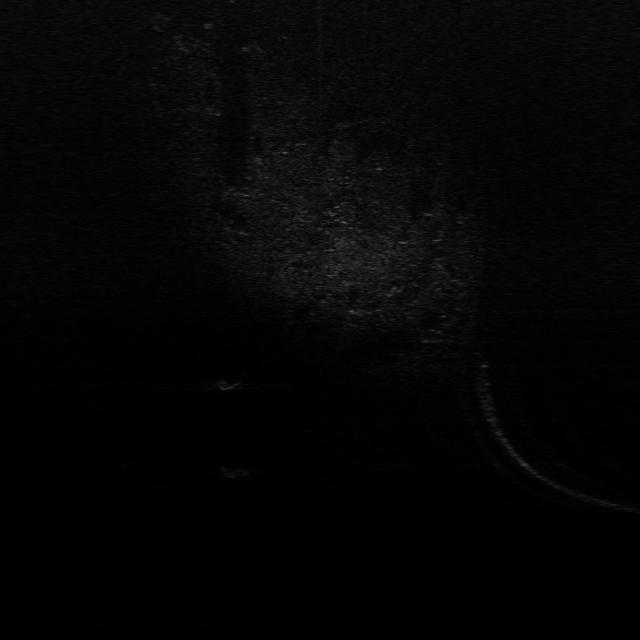cube: (214, 462, 250, 479)
square cage: (211, 373, 247, 394)
